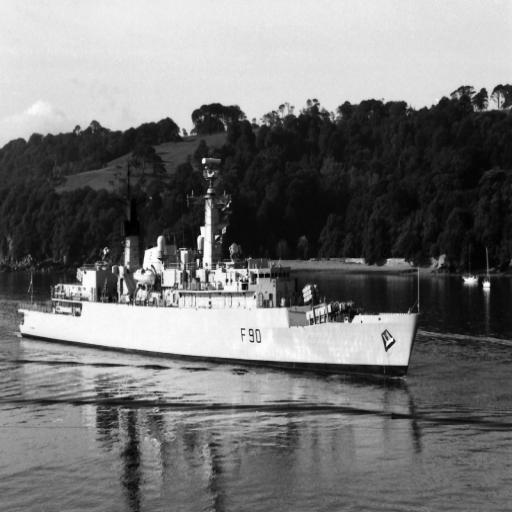Fragata: (15, 151, 426, 382)
